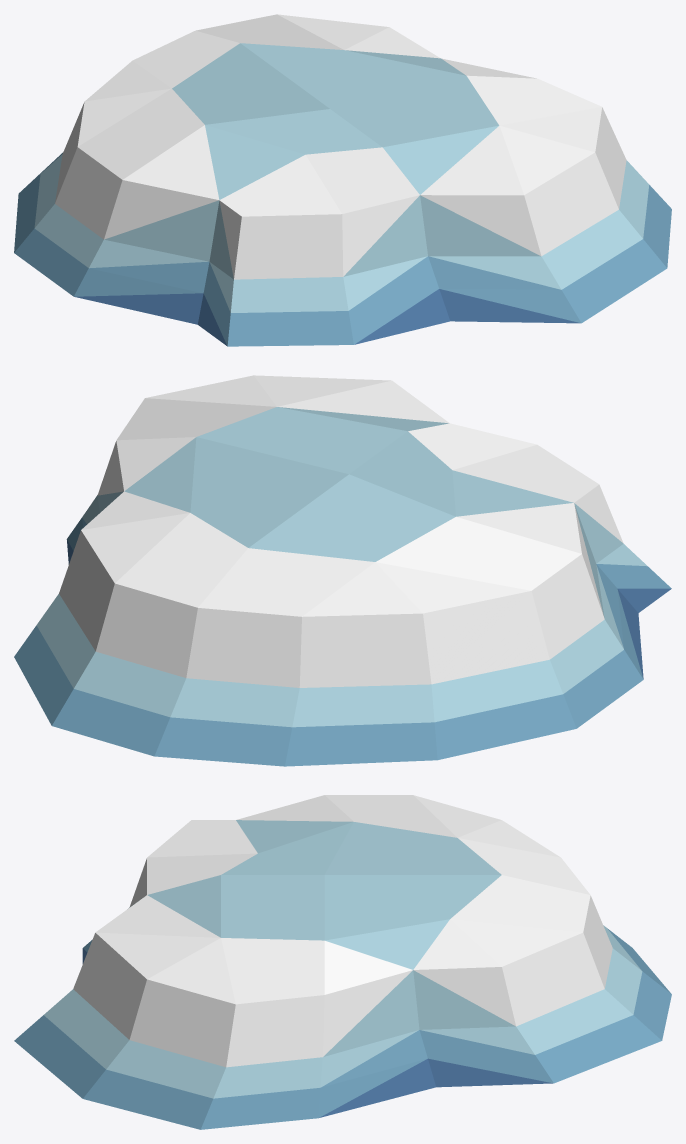
The model's file is terrainFlat1.fbx.
The picture shows the model from 3 angles, top to bottom: view 1: azimuth 30°, elevation 25°; view 2: azimuth 150°, elevation 25°; view 3: azimuth 270°, elevation 25°; orthographic projection. The views are drawn at different scales.
Parts seen in each view (by area): view 1: bottom, top; view 2: bottom, top; view 3: bottom, top.
Part boxes in pixels (<box>): bottom: <box>14,102,671,346</box>; top: <box>77,14,601,216</box>; bottom: <box>14,441,671,766</box>; top: <box>81,375,598,616</box>; bottom: <box>14,858,671,1129</box>; top: <box>95,795,590,1004</box>.
Bounding box in the file's own units: 519 × 112 × 556.
Materials: 2 (2 with a texture image).
